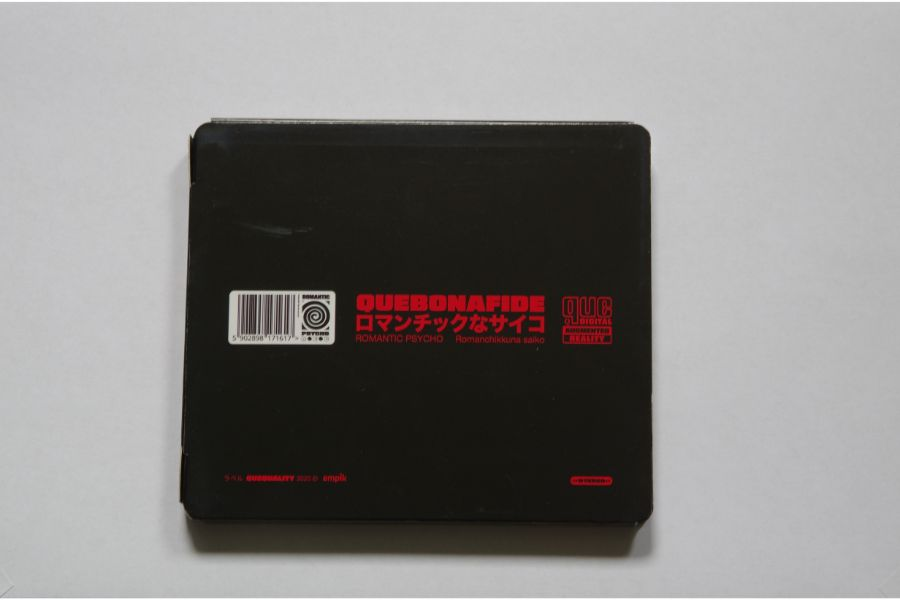album: (178, 111, 662, 530)
